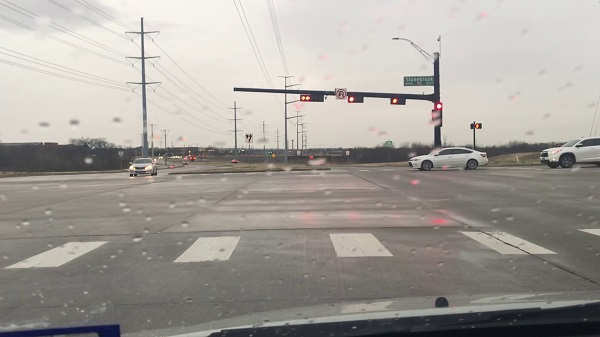car: (409, 146, 487, 173), (540, 137, 600, 169), (128, 157, 156, 177)
